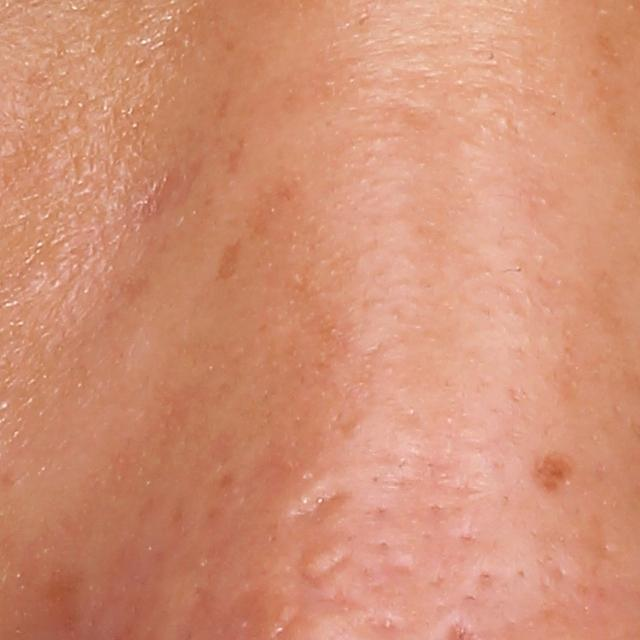atrophic_scar: (116, 154, 201, 234), (296, 554, 361, 617), (290, 480, 351, 521)
melasma: (248, 173, 305, 246), (530, 454, 587, 501), (213, 236, 241, 285)
